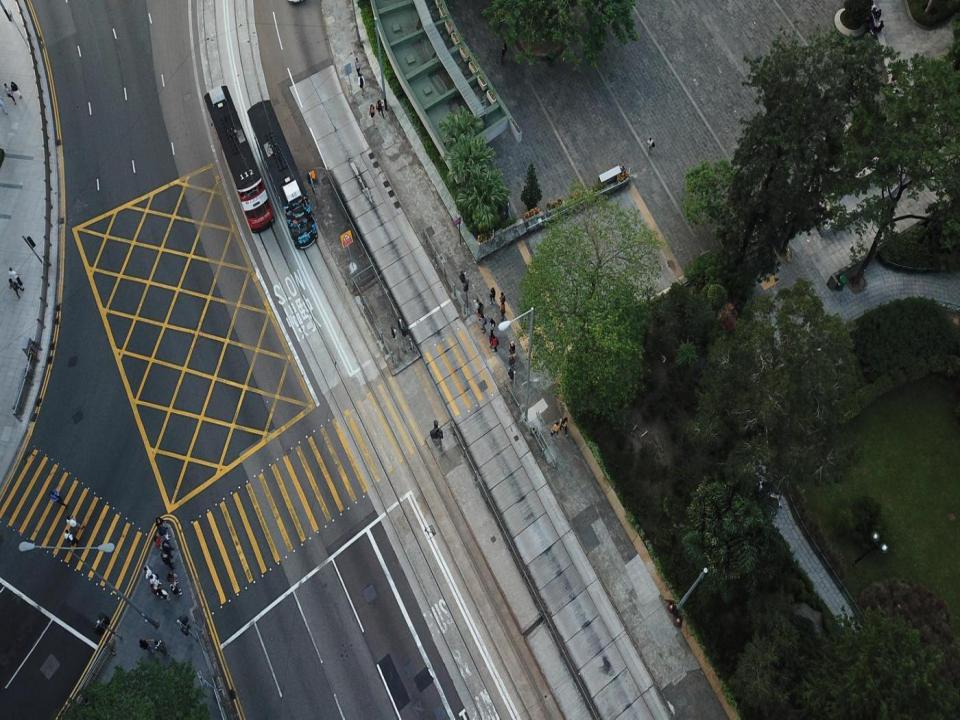bus: (204, 83, 275, 236), (248, 99, 317, 250)
